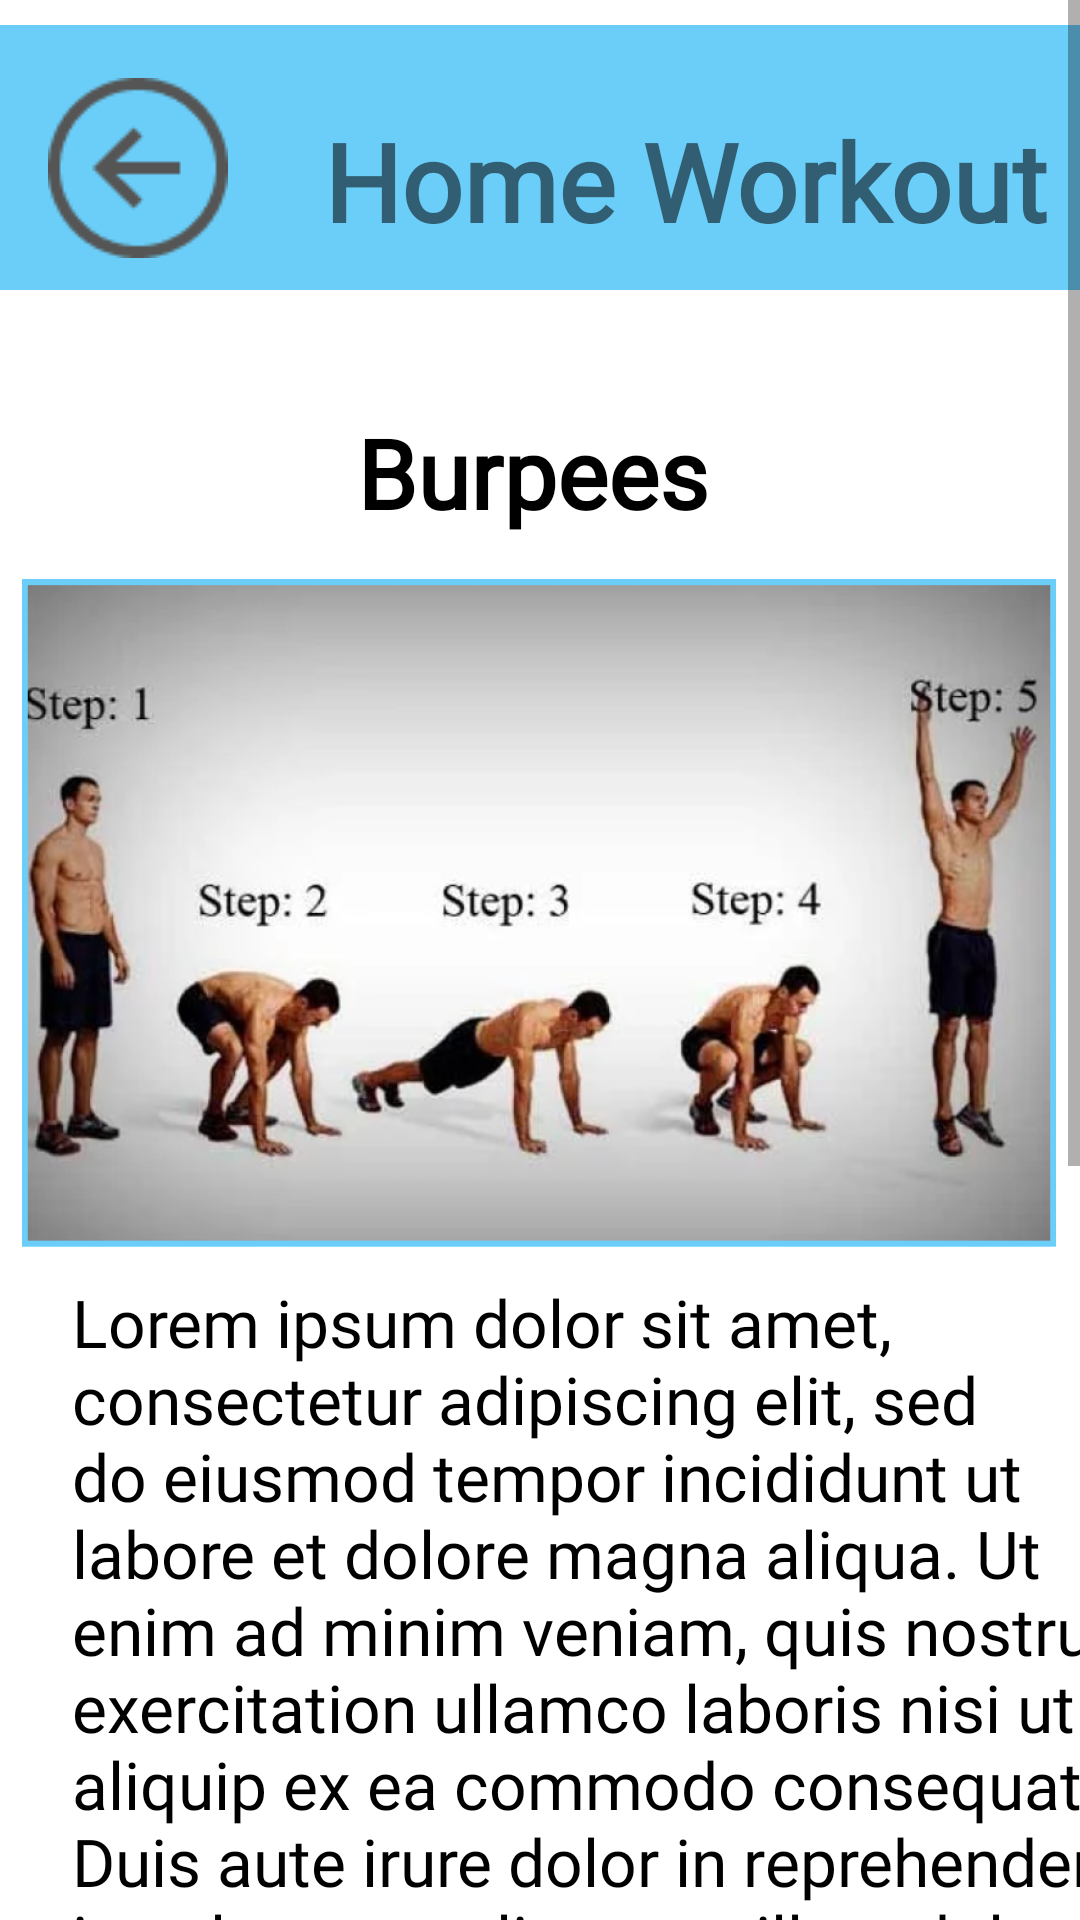

Icon click points for this 1080w x 1920h phone screenshot, format (x=x, y=y):
backbtn: (x=138, y=168)
